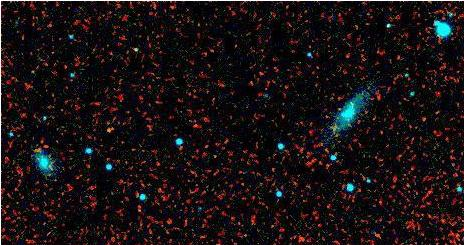star: (92, 117, 122, 147)
